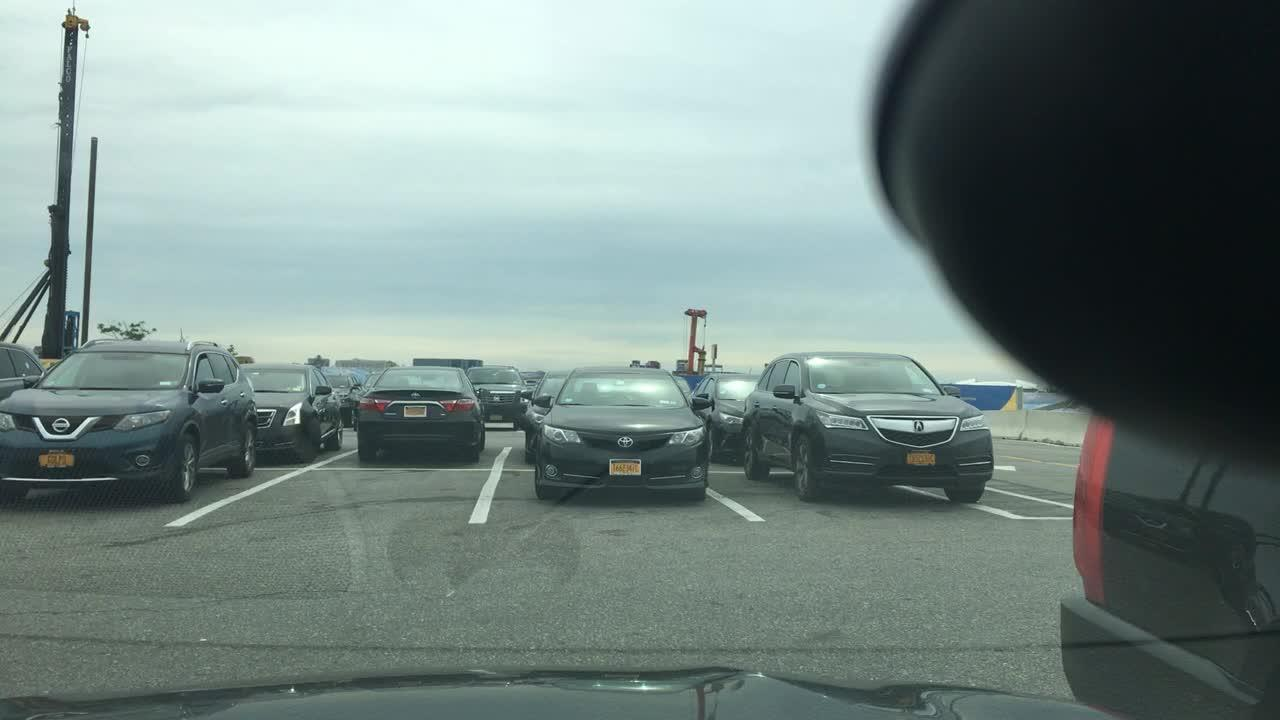Nissan: (46, 414, 74, 440)
Toyota: (613, 429, 639, 453)
acura: (905, 415, 931, 438)
